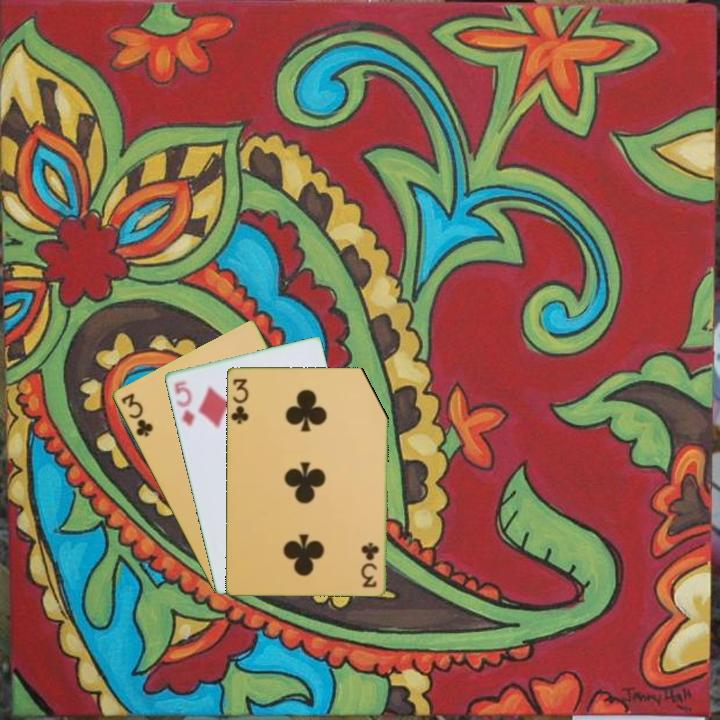3c: (117, 389, 156, 440), (227, 375, 251, 426), (360, 539, 381, 590)
5d: (171, 377, 197, 429)
